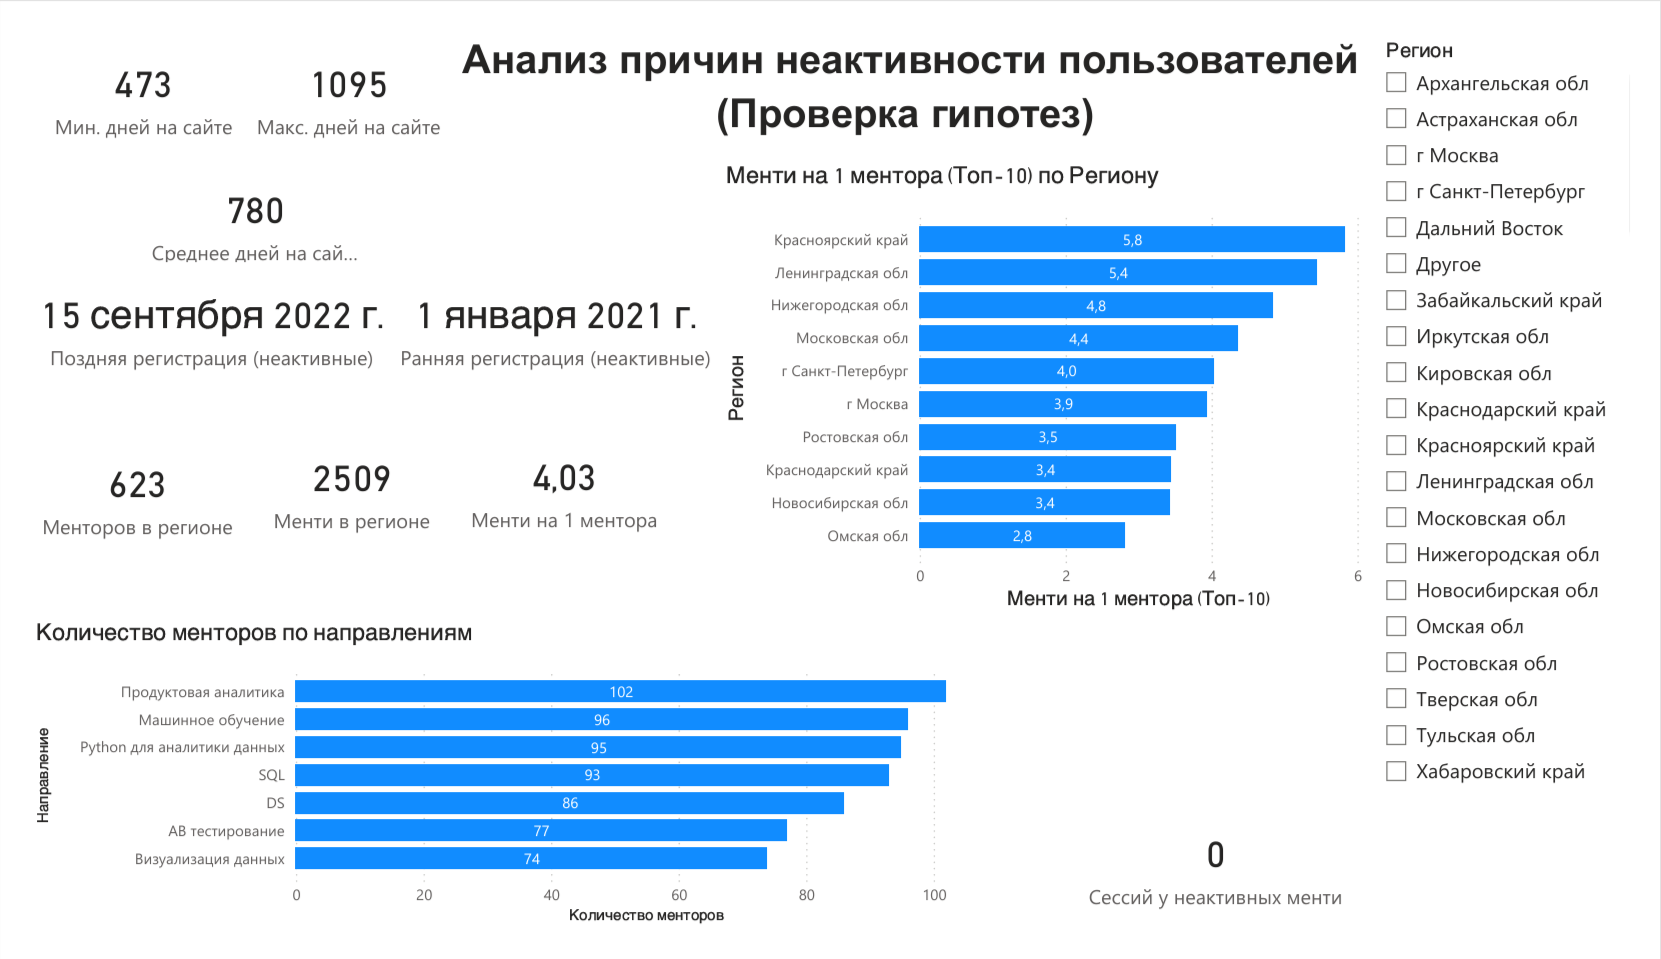

The dashboard page shown, as its layout file describes it:
{"tool":"powerbi","page":{"name":"Причины оттока (Гипотезы)","canvas":[1280,720],"ordinal":1},"visuals":[{"type":"card","fields":{"Values":["sessions.Мин. дней на сайте"]},"box":[9.6,0,161.9,102.9],"z":0},{"type":"card","fields":{"Values":["sessions.Макс. дней на сайте"]},"box":[171.5,0,166,102.9],"z":1000},{"type":"card","fields":{"Values":["sessions.Среднее дней на сайте"]},"box":[90.6,102.6,178.5,99.9],"z":2000},{"type":"card","fields":{"Values":["sessions.Ранняя регистрация (неактивные)"]},"box":[290.4,185.2,260.7,102.9],"z":3000},{"type":"card","fields":{"Values":["sessions.Поздняя регистрация (неактивные)"]},"box":[0,185.2,290.9,102.9],"z":4000},{"type":"card","fields":{"Values":["users.Менторов в регионе"]},"box":[0,322.4,171.9,99.9],"z":5000},{"type":"card","fields":{"Values":["users.Менти в регионе"]},"box":[178.5,317.1,157.2,98.6],"z":6000},{"type":"card","fields":{"Values":["users.Менти на 1 ментора"]},"box":[338.4,315.7,178.5,99.9],"z":7000},{"type":"slicer","fields":{"Values":["region.name"]},"box":[1071.7,0,208.6,635.3],"z":8000},{"type":"clusteredBarChart","title":"Менти на 1 ментора (Топ-10) по Региону","fields":{"Y":["users.Менти на 1 ментора (Топ-10)"],"Category":["region.name"]},"box":[551.5,102.6,519.6,365],"z":9000},{"type":"clusteredBarChart","title":"Количество менторов по направлениям","fields":{"Category":["domain.name"],"Y":["Count(sessions.mentor_id)"]},"box":[0,467.6,788.7,251.8],"z":10000},{"type":"card","fields":{"Values":["sessions.Сессий у неактивных менти"]},"box":[826,616.8,245.1,102.6],"z":11000},{"type":"textbox","box":[338.4,0,732.7,102.6],"z":12000}]}

Visuals, with their boxes in screenshot pixels (x1, y1, x2, y2), scaled from the page's 1280x720 canvas onto the 1661x959 screenshot:
card - sessions.Мин. дней на сайте: [12,0,223,137]
card - sessions.Макс. дней на сайте: [223,0,438,137]
card - sessions.Среднее дней на сайте: [118,137,349,270]
card - sessions.Ранняя регистрация (неактивные): [377,247,715,384]
card - sessions.Поздняя регистрация (неактивные): [0,247,377,384]
card - users.Менторов в регионе: [0,429,223,562]
card - users.Менти в регионе: [232,422,436,554]
card - users.Менти на 1 ментора: [439,420,671,554]
slicer - region.name: [1391,0,1660,846]
"Менти на 1 ментора (Топ-10) по Региону" clusteredBarChart: [716,137,1390,623]
"Количество менторов по направлениям" clusteredBarChart: [0,623,1023,958]
card - sessions.Сессий у неактивных менти: [1072,822,1390,958]
textbox: [439,0,1390,137]
